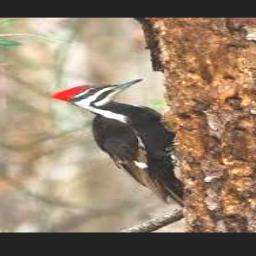Woodpecker: (53, 79, 186, 206)
